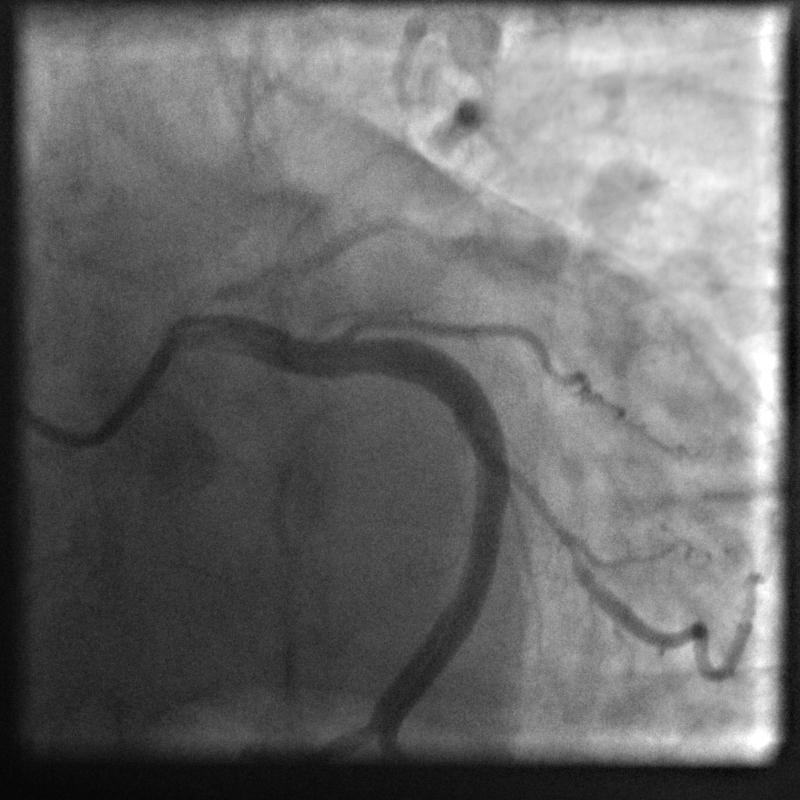Stenosis: (500, 452, 590, 578)
